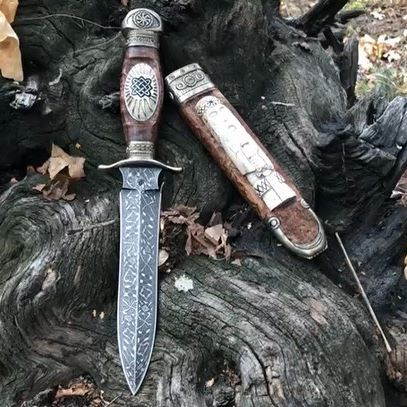knife: (97, 8, 181, 395)
